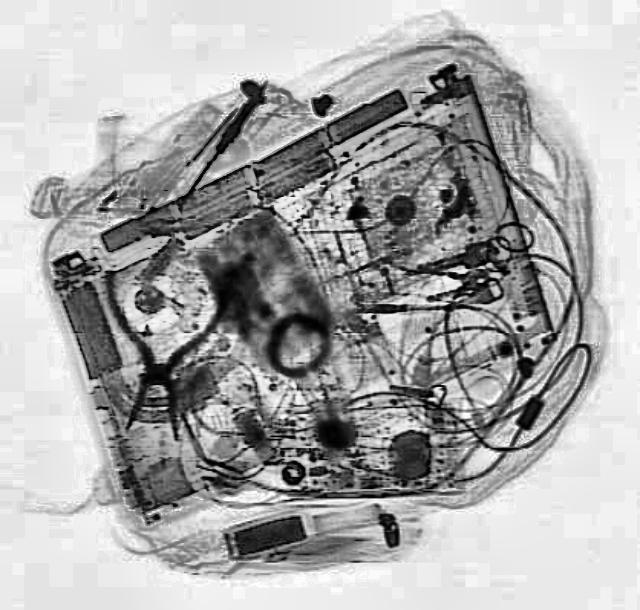Pliers: (86, 264, 224, 444)
